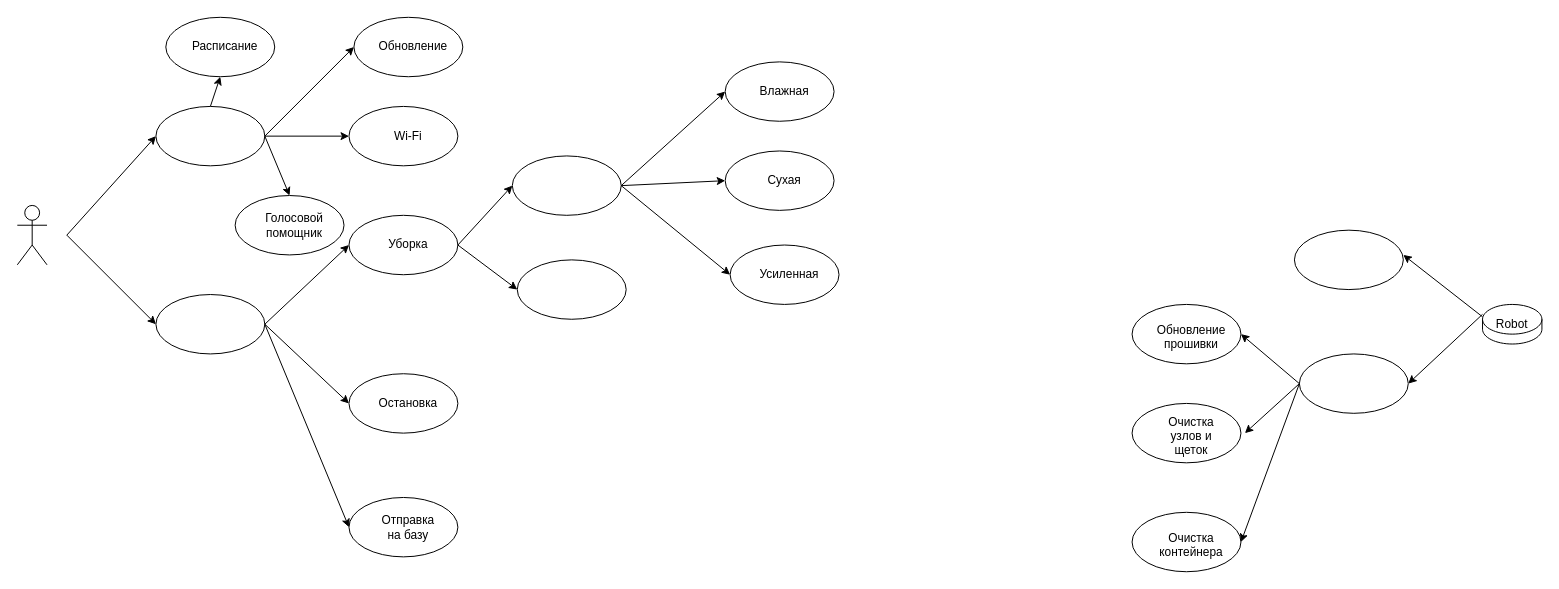
Some shapes in this 1559 by 589 pixel diagram are drawn without their labels. Here are the shapes that lost their labels. From the top down, the box of each, then its label:
(155, 105, 265, 166): Настройки
(511, 155, 621, 215): Генеральная
(16, 204, 47, 265): User
(1293, 229, 1403, 290): На базу
(516, 259, 626, 319): Ежедневная
(155, 294, 265, 354): Управление
(1298, 353, 1408, 413): Запросить обслуживание
